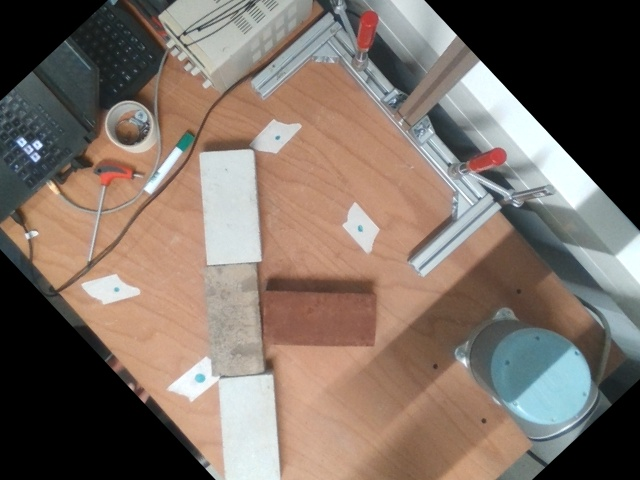brick: (204, 265, 262, 377), (219, 375, 280, 479), (202, 152, 256, 263), (264, 295, 373, 345)
